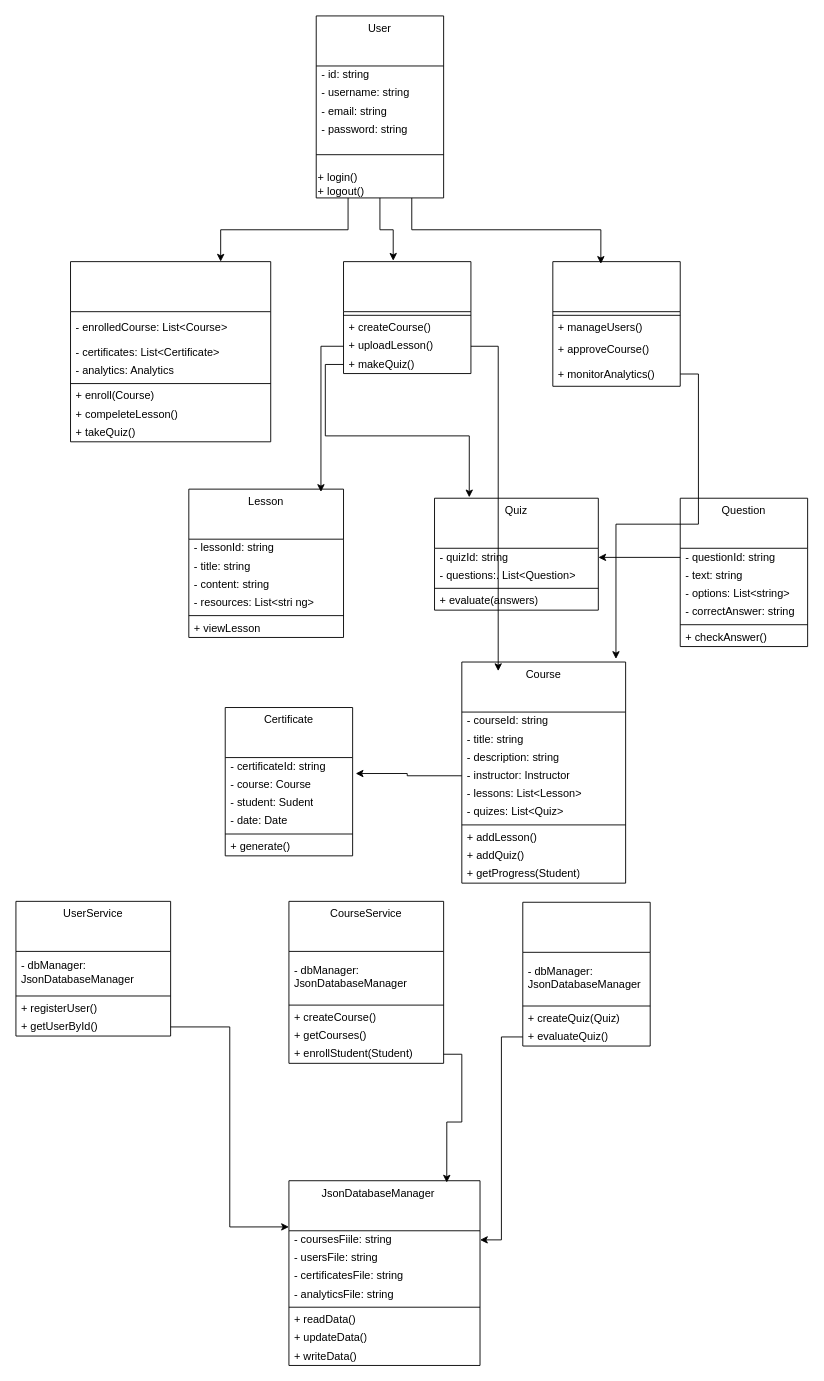
The diagram is 824 pixels wide and 1381 high, and some of its shapes have lost their labels. The box of each missing label's shape, as (x1, y1, x2, y2) in pixels:
Admin: (552, 261, 680, 386)
Instructor: (343, 261, 471, 374)
QuizService: (522, 901, 650, 1046)
Student: (70, 261, 271, 442)
